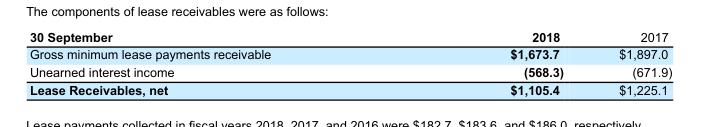table: (28, 29, 671, 96)
table column: (28, 29, 389, 96), (389, 29, 590, 96), (590, 29, 671, 96)
table column header: (28, 29, 671, 45)
table row: (28, 62, 671, 80), (28, 45, 671, 62), (28, 29, 671, 45), (28, 80, 671, 96)
